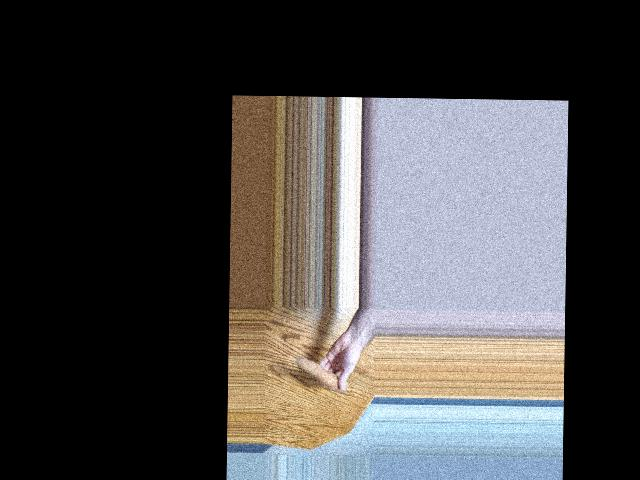sweet_potato: (295, 356, 350, 393)
